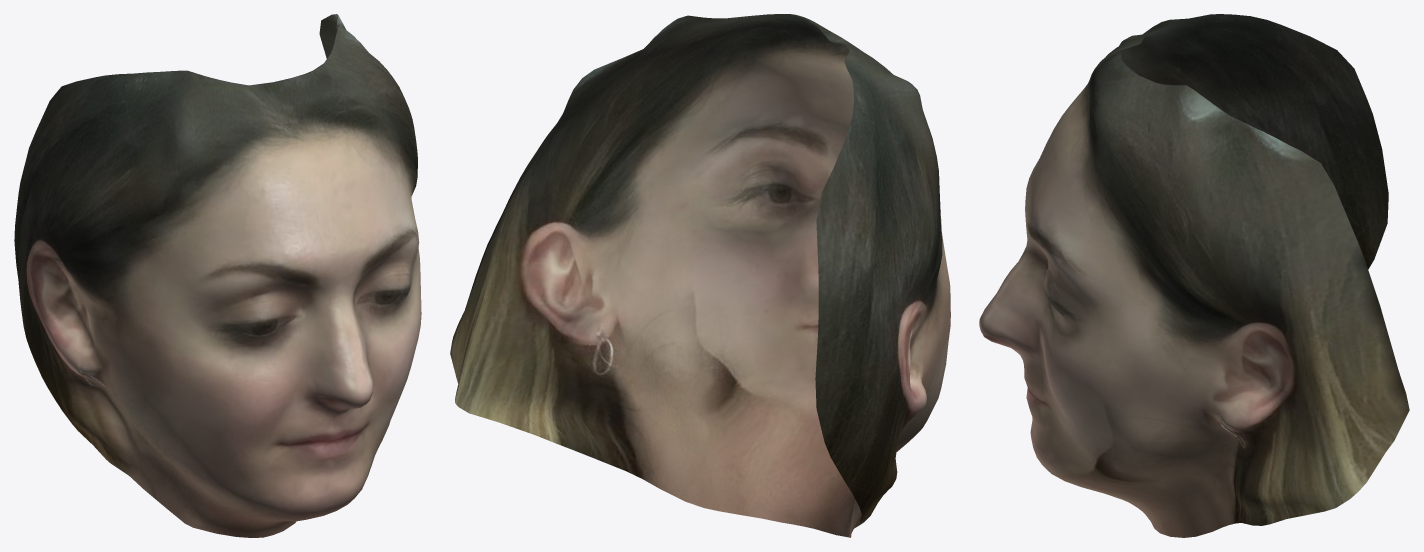
Rendered from headScanLow.glb.
3 views of the same model, side by side, from view 1: azimuth 30°, elevation 25°; view 2: azimuth 150°, elevation 25°; view 3: azimuth 270°, elevation 25° (orthographic). The views are drawn at different scales.
Visible parts, largest first — view 1: Node; view 2: Node; view 3: Node.
Part boxes in pixels (left/top/right/bottom): Node: left=14, top=14, right=421, bottom=537; Node: left=450, top=14, right=950, bottom=537; Node: left=979, top=14, right=1409, bottom=537.
Bounding box in the file's own units: 195 × 225 × 184.
1 material, 1 textured.
